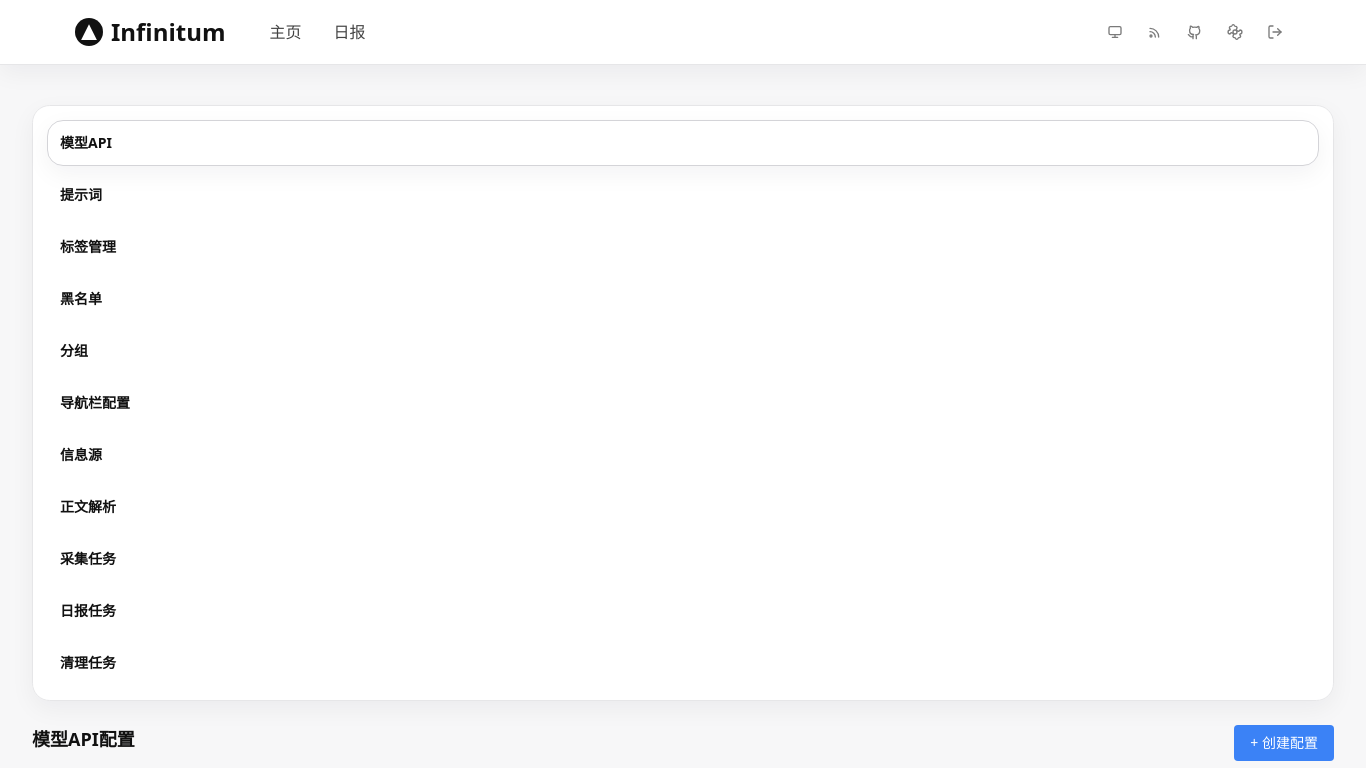
Test case: AdminSettingsPanel › disables deleting default model and prompt configs
The width and height of the screenshot is (1366, 768).
Click the tab "提示词" at (81, 194), box [47, 172, 1319, 218]
(page scrolled)
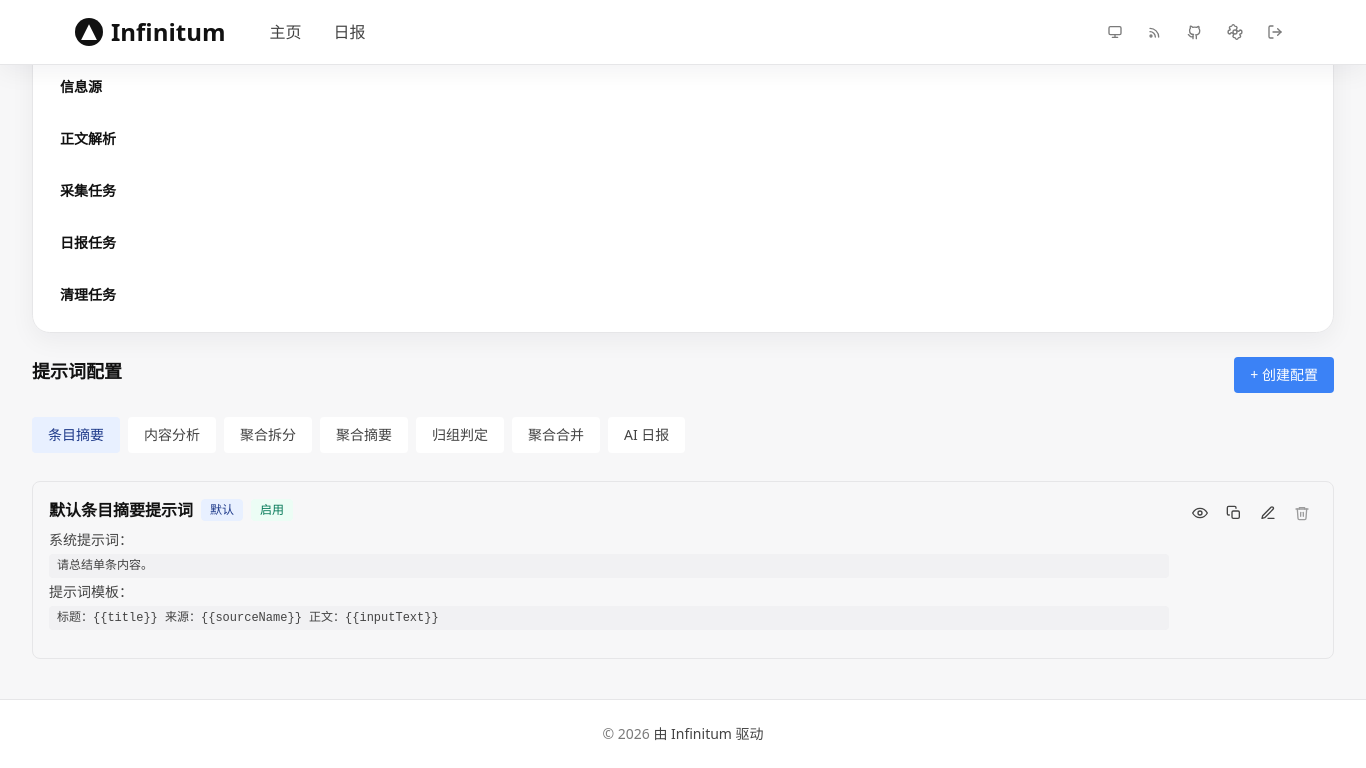
Result: the button named "默认配置不可删除" is disabled at [1287, 498, 1317, 528]
